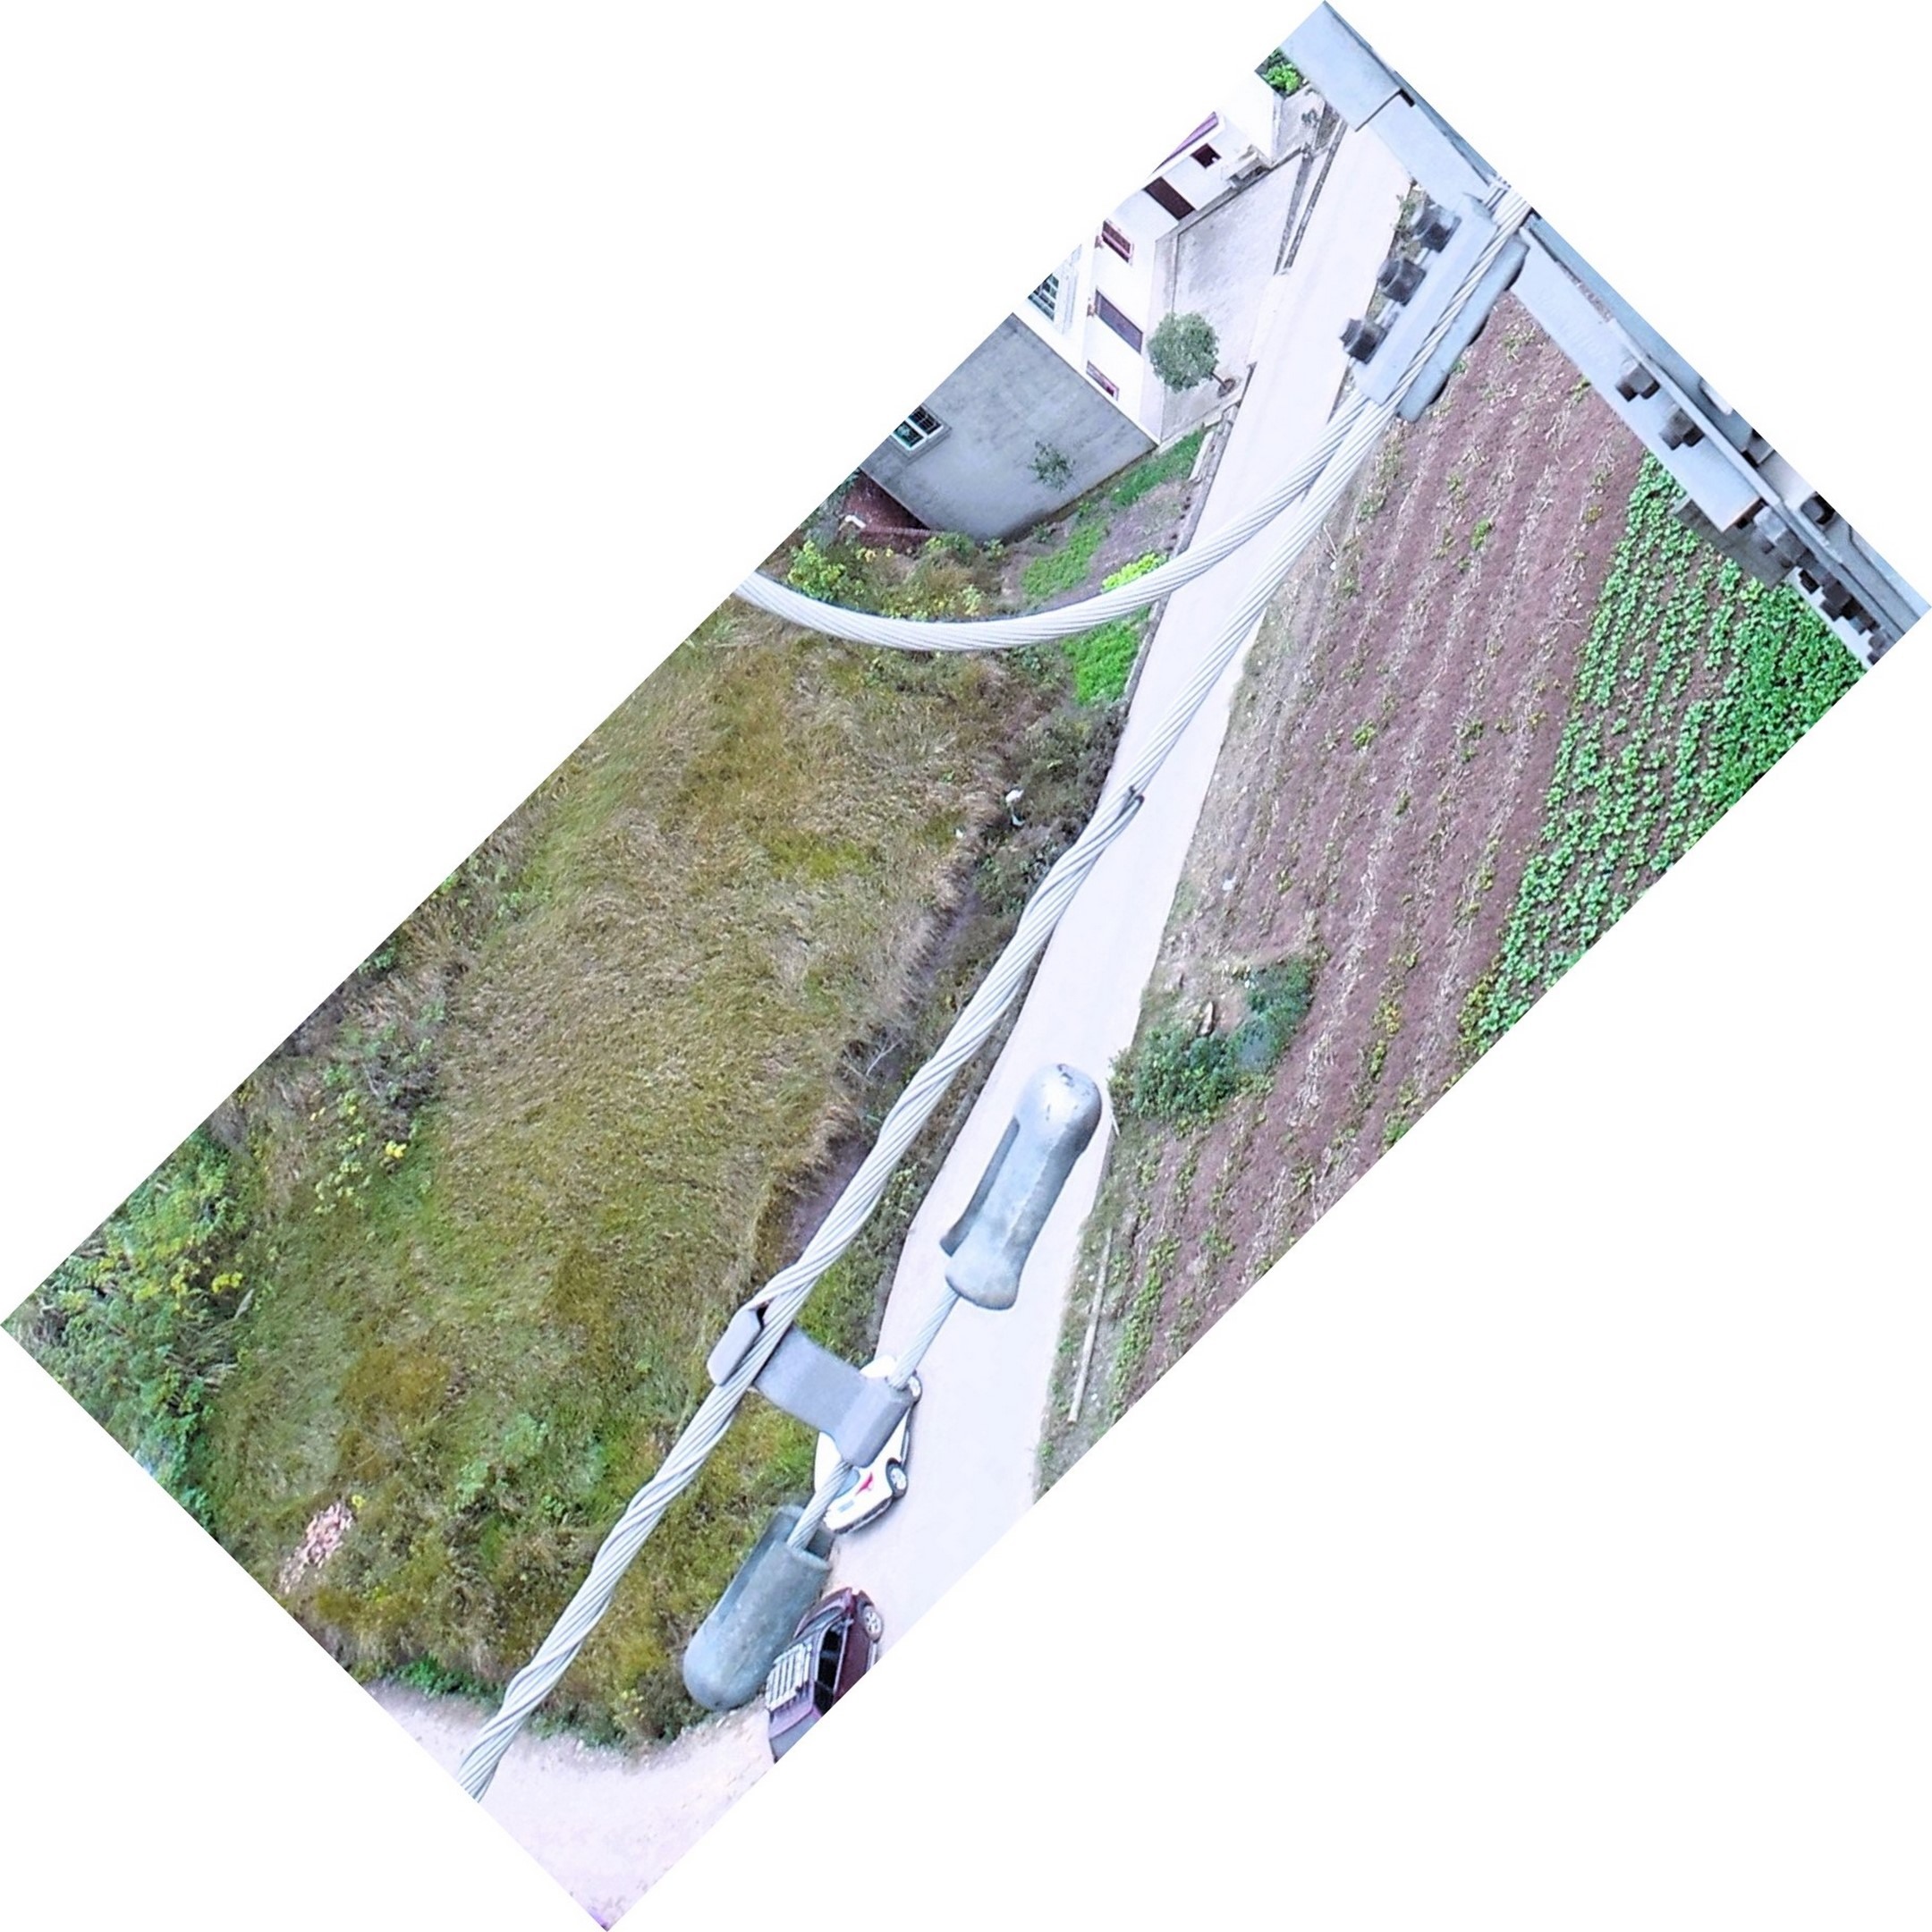Shockproof hammer: (614, 1051, 1141, 1727)
